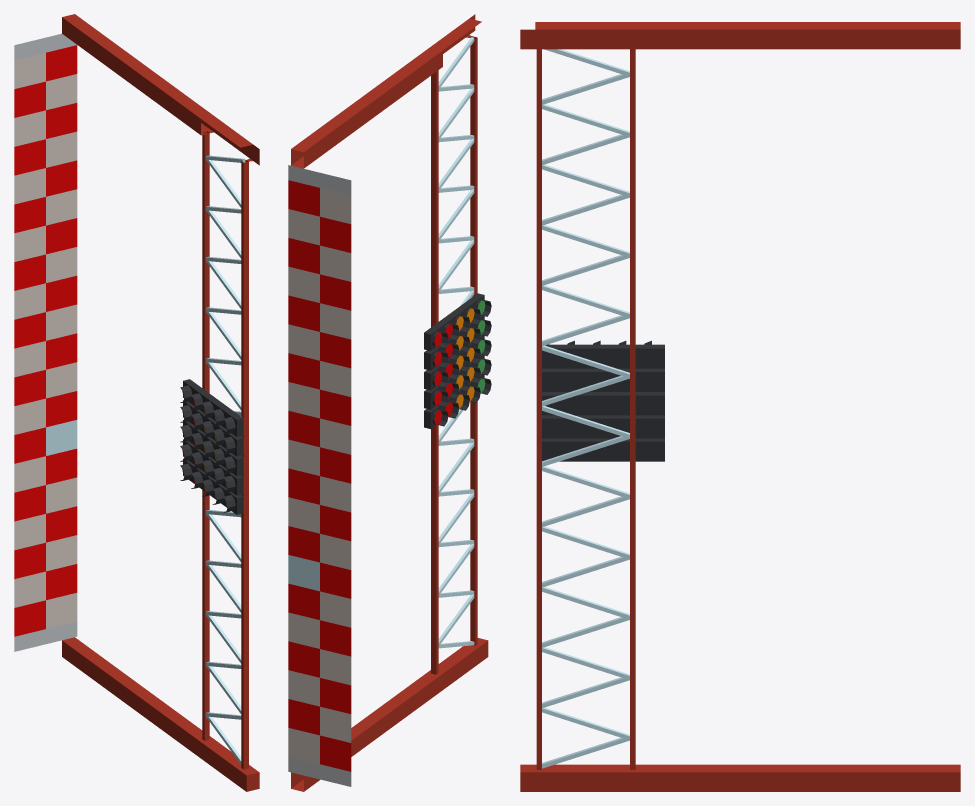
The model's file is finish_line.glb.
The picture shows the model from 3 angles, left to right: view 1: azimuth 30°, elevation 25°; view 2: azimuth 150°, elevation 25°; view 3: azimuth 270°, elevation 25°; orthographic projection. The views are drawn at different scales.
Parts seen in each view (by area): view 1: track_start_finish; view 2: track_start_finish; view 3: track_start_finish.
Part boxes in pixels (left/top/right/bottom): track_start_finish: left=14, top=14, right=259, bottom=791; track_start_finish: left=288, top=14, right=491, bottom=791; track_start_finish: left=520, top=22, right=960, bottom=791.
Size of the model in its own units: 0.8698 by 8.43 by 4.41.
1 material, 1 textured.
